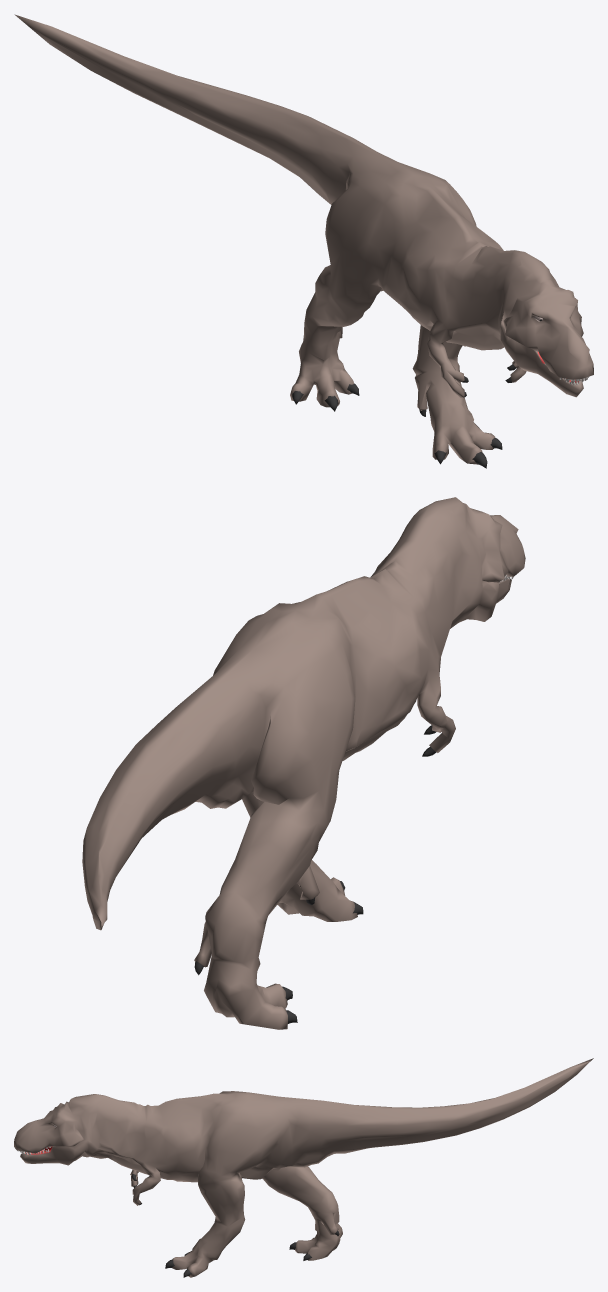
File: dinosaur_005.gltf
The picture shows the model from 3 angles, top to bottom: view 1: azimuth 30°, elevation 25°; view 2: azimuth 150°, elevation 25°; view 3: azimuth 270°, elevation 25°; orthographic projection. The views are drawn at different scales.
Parts seen in each view (by area): view 1: dinosaur_005; view 2: dinosaur_005; view 3: dinosaur_005.
Part boxes in pixels (x1,y1,x2,y2): dinosaur_005: [14, 14, 593, 468]; dinosaur_005: [82, 497, 525, 1029]; dinosaur_005: [14, 1058, 593, 1277].
Size of the model in its own units: 6.3 by 8.79 by 27.2.
1 material, 1 textured.
